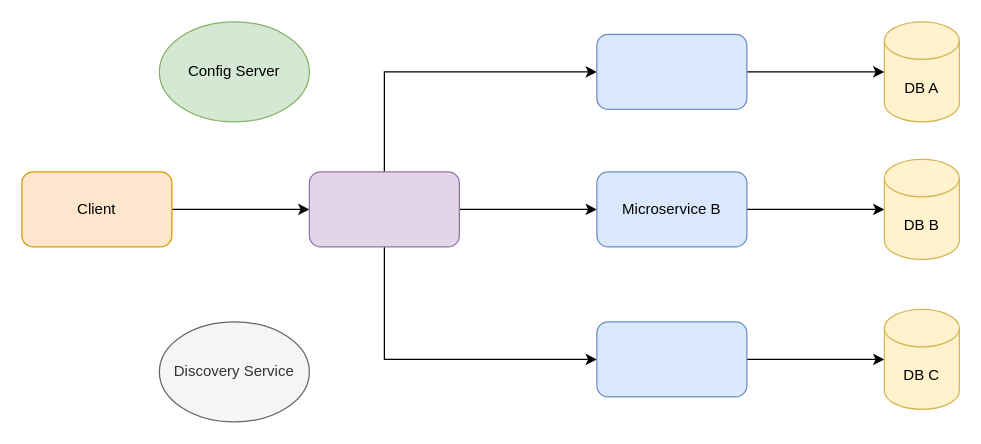
Some shapes in this 981 by 444 pixel diagram are drawn without their labels. Here are the shapes that lost their labels. From the top down, the centre of each, then its label:
At (x=671, y=71): "Microservice A".
At (x=383, y=209): "Spring Gateway".
At (x=671, y=359): "Microservice C".
